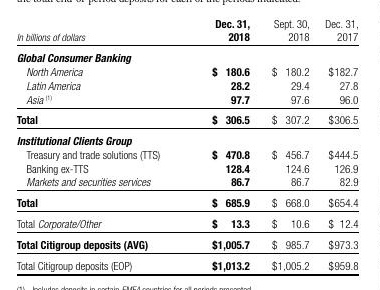table: (0, 0, 380, 290)
